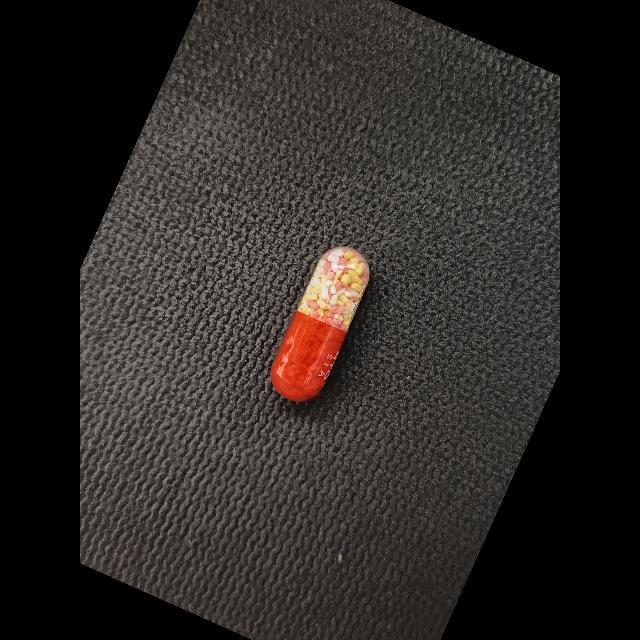Intact Capsule: (271, 247, 369, 401)
